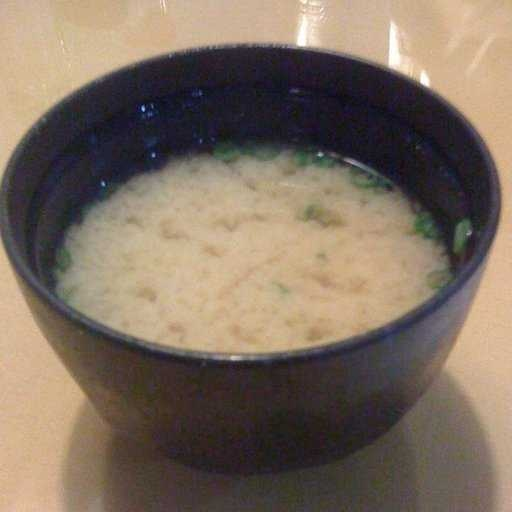soup: (43, 126, 427, 351)
